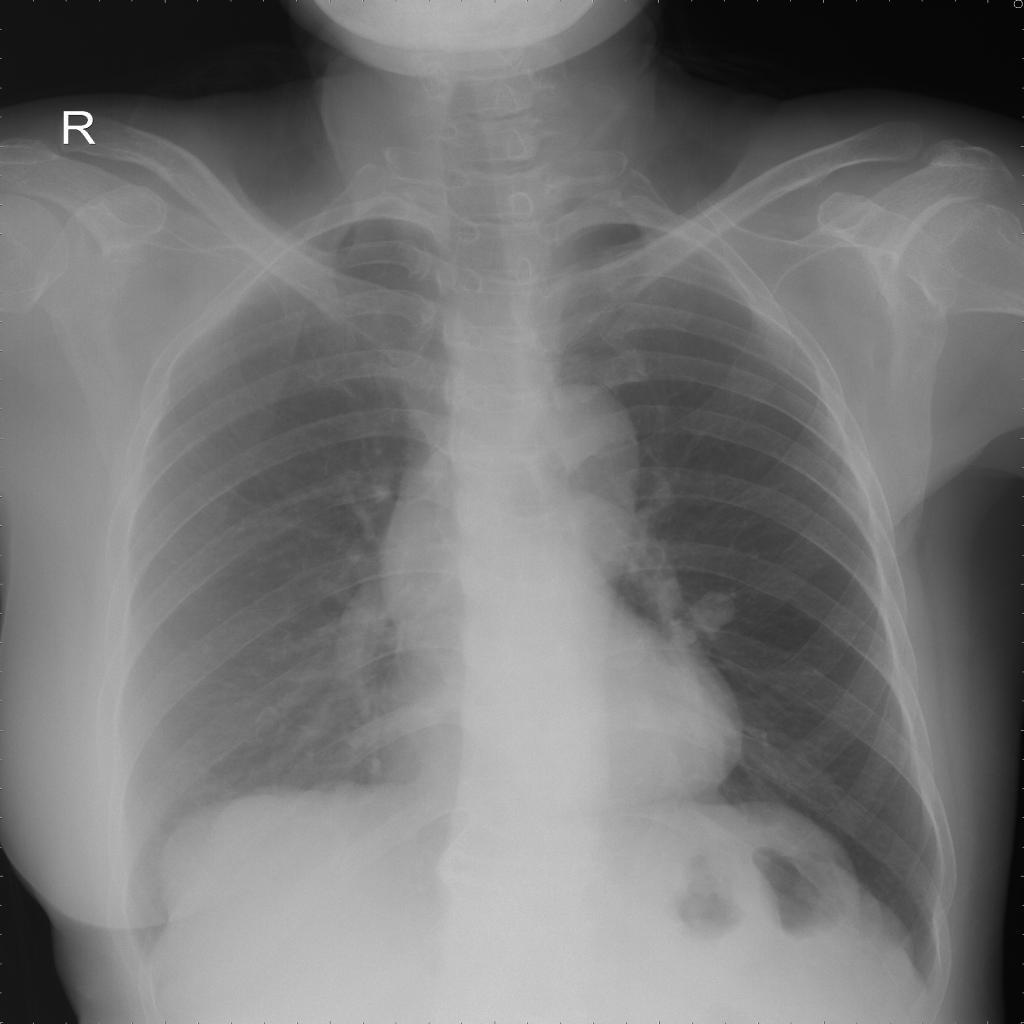Nodule: (672, 591, 740, 649)
